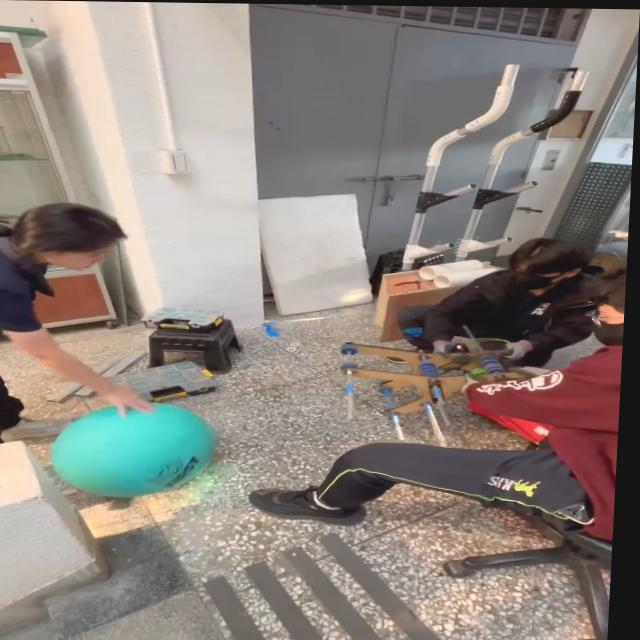ALGAE: (46, 399, 219, 500)
